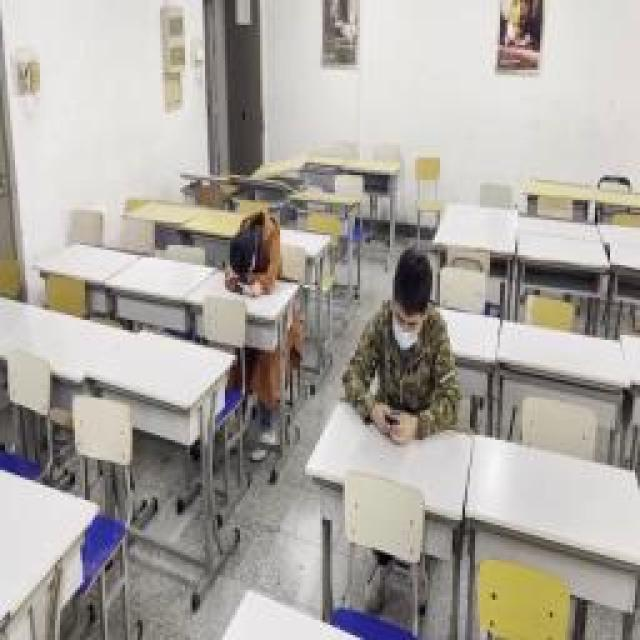phone: (342, 252, 458, 440)
sleep: (220, 212, 282, 290)
